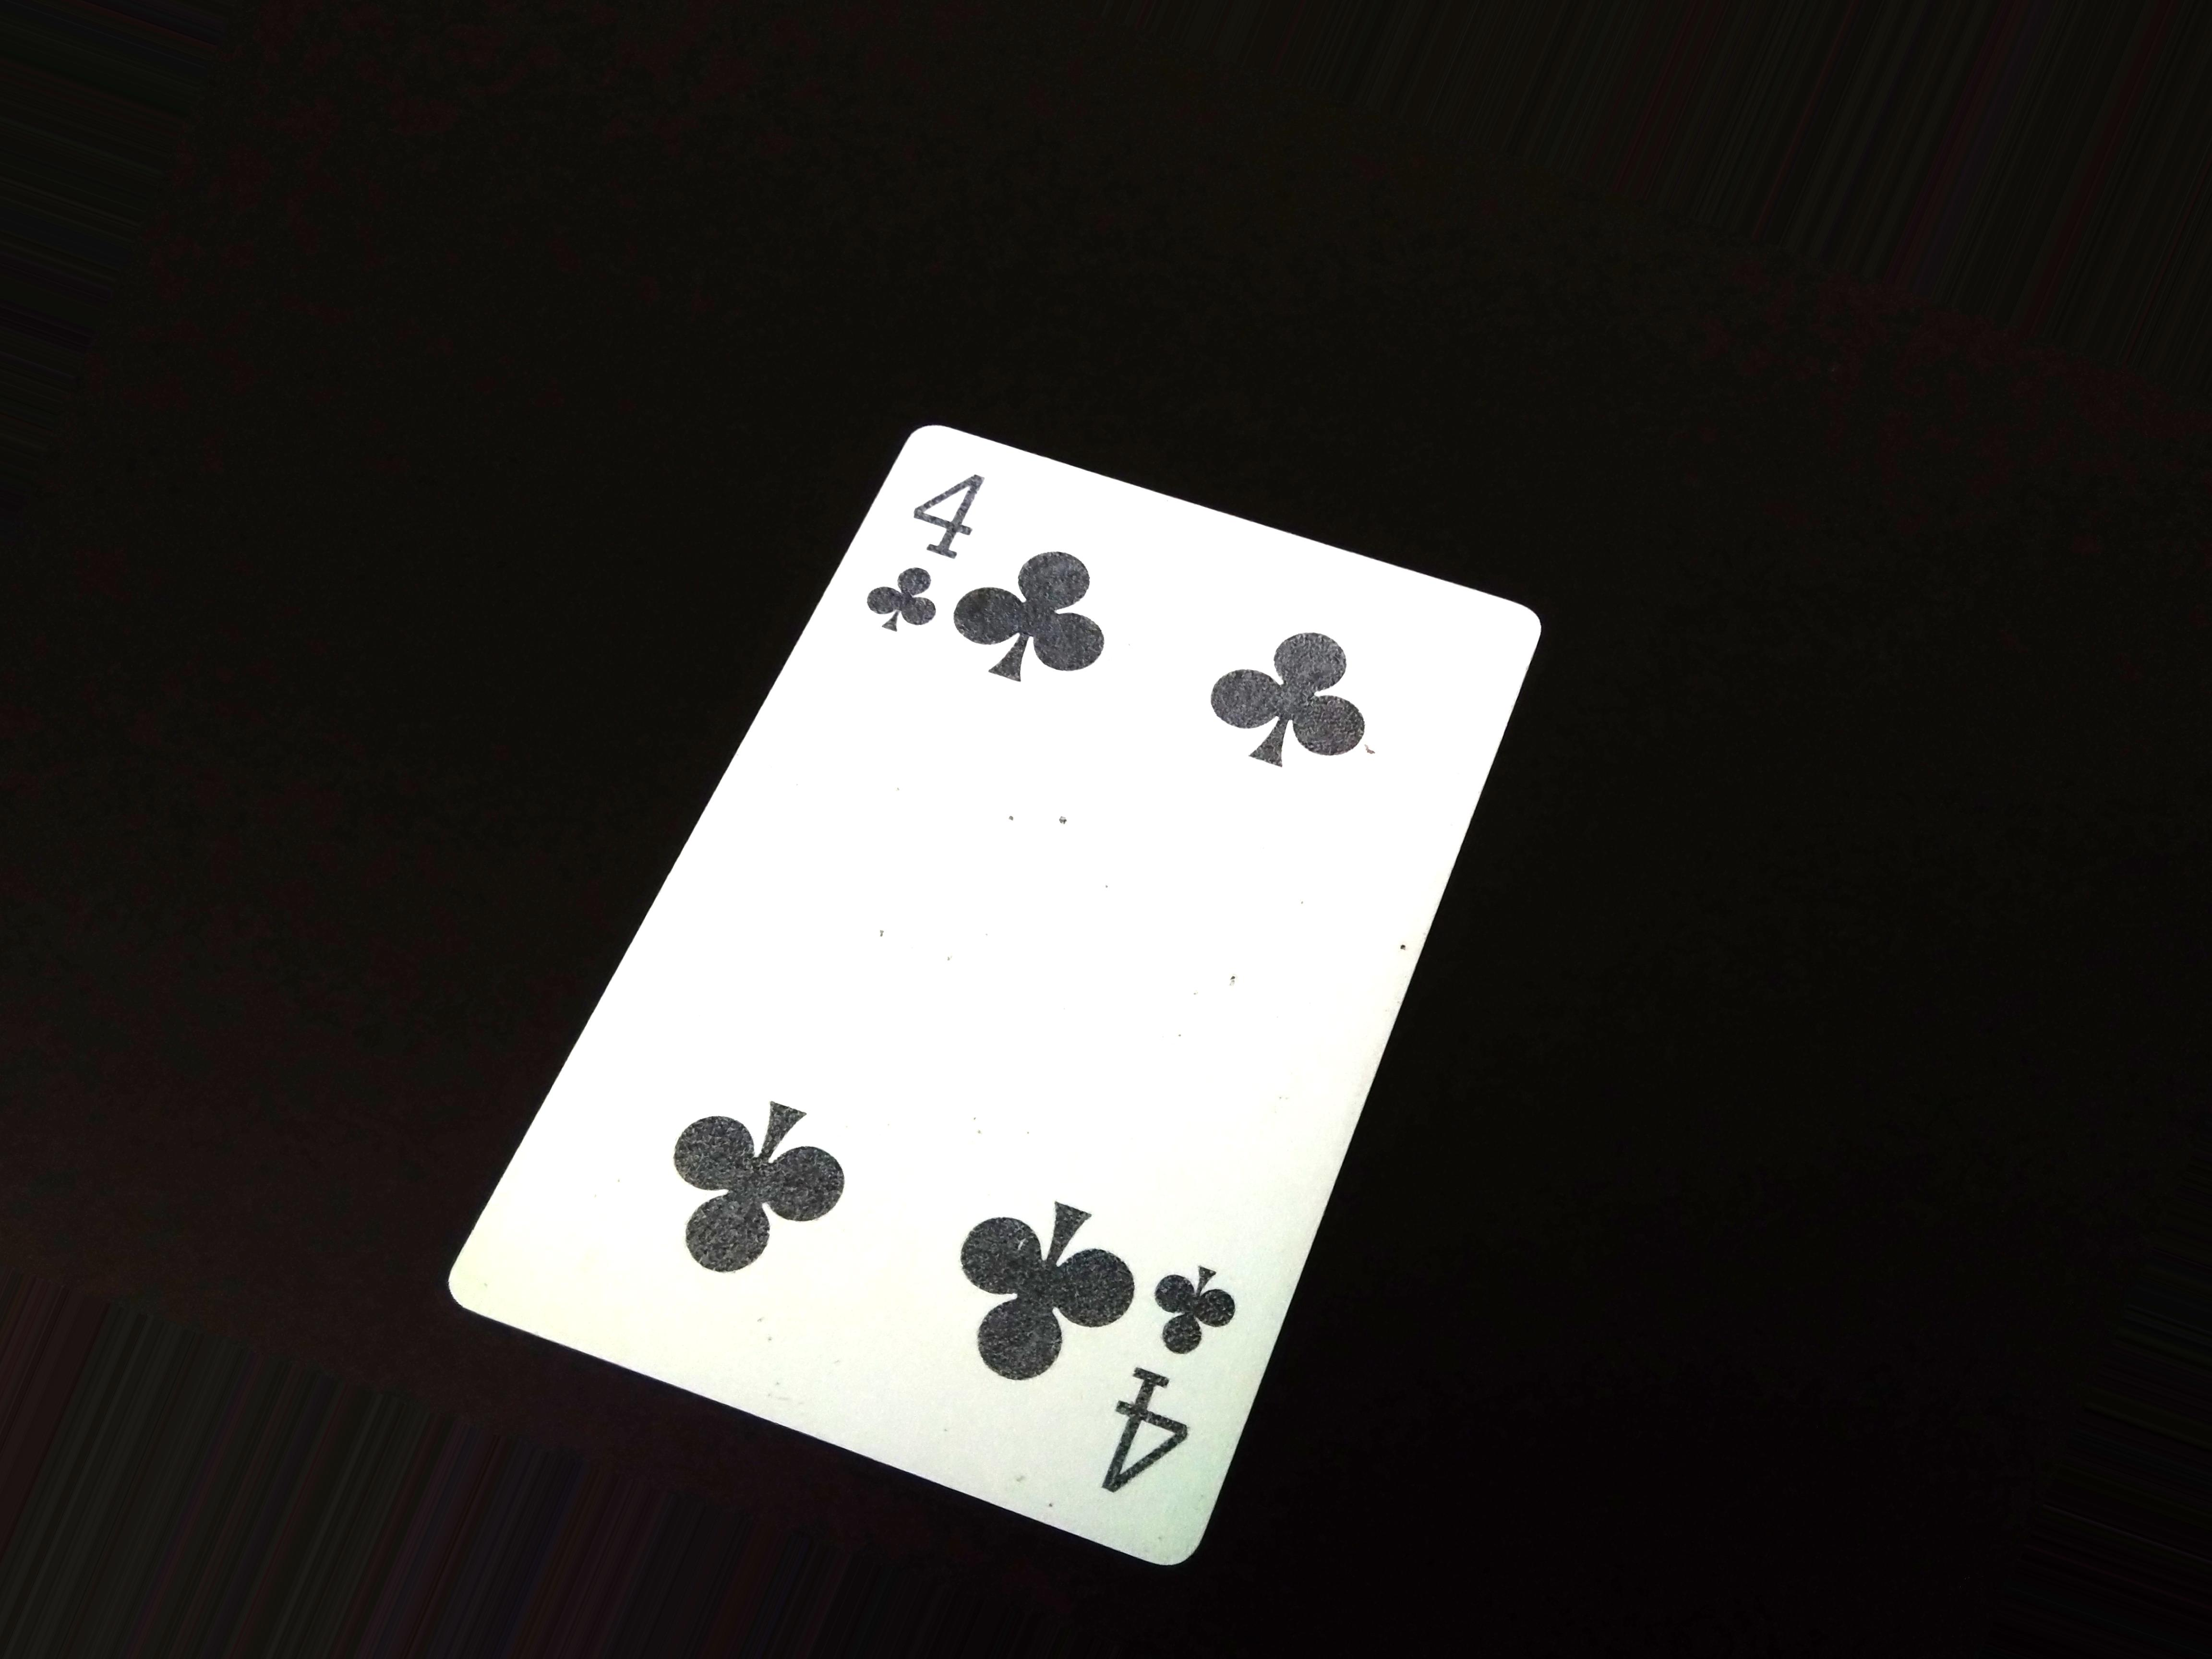4C: (864, 425, 1008, 653)
